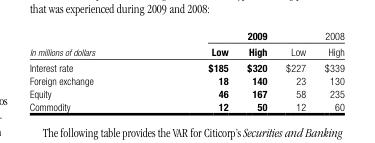table: (28, 28, 343, 111)
table column: (28, 28, 150, 111), (150, 28, 236, 111), (236, 28, 275, 111), (275, 28, 314, 111), (314, 28, 343, 111)
table column header: (28, 28, 343, 59)
table row: (28, 28, 343, 59), (28, 59, 343, 73), (28, 73, 343, 86), (28, 86, 343, 99), (28, 99, 343, 111)
